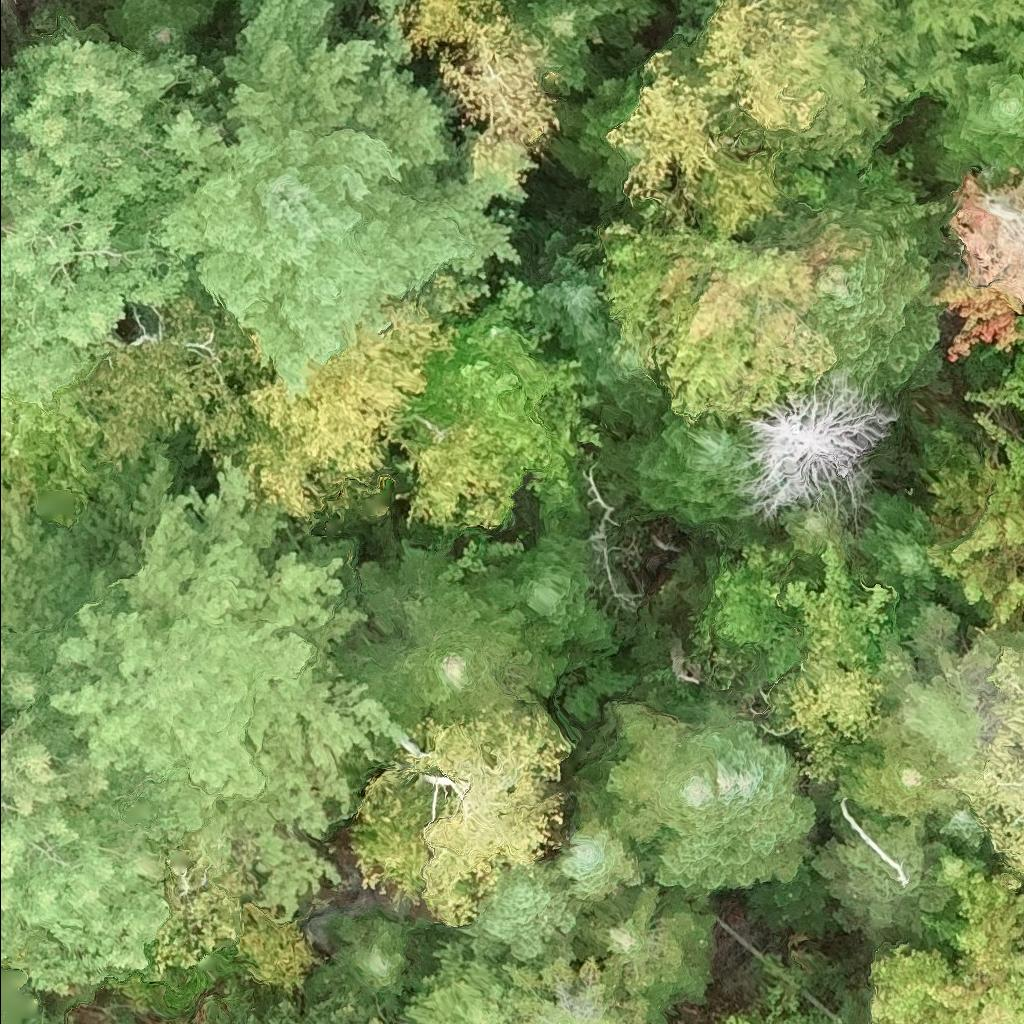crown: (0, 441, 410, 921), (157, 0, 538, 399), (0, 32, 226, 412), (0, 628, 170, 996), (599, 201, 873, 424), (207, 288, 459, 523), (349, 699, 571, 929), (412, 302, 604, 533), (80, 263, 277, 483), (337, 536, 536, 732), (638, 700, 816, 894), (804, 155, 951, 388), (487, 513, 636, 722), (730, 358, 901, 528), (578, 692, 725, 859), (808, 800, 956, 962), (867, 871, 1023, 1023), (604, 49, 737, 223), (571, 876, 721, 1023), (785, 0, 915, 164), (433, 16, 560, 180), (675, 0, 829, 133), (759, 628, 888, 784), (920, 441, 1023, 635), (943, 643, 1023, 880), (602, 404, 749, 528), (935, 163, 1023, 365), (390, 409, 530, 534), (832, 703, 965, 825), (913, 55, 1023, 187), (459, 859, 586, 967), (303, 908, 450, 999), (894, 0, 1023, 102), (571, 318, 671, 440), (778, 548, 892, 652), (0, 382, 100, 498), (556, 791, 654, 902), (400, 934, 518, 1023), (856, 486, 940, 607), (685, 147, 797, 237), (531, 231, 610, 356), (510, 951, 647, 1023), (503, 0, 609, 89), (404, 0, 510, 85), (96, 0, 218, 53), (775, 495, 856, 561), (973, 411, 1023, 493), (920, 803, 994, 858), (923, 840, 996, 892), (305, 987, 404, 1023), (375, 0, 410, 22), (722, 1010, 757, 1023), (1022, 366, 1023, 368)
